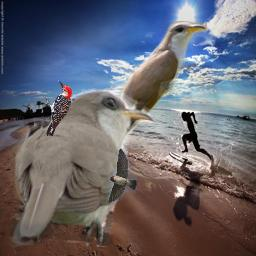Cuckoo: (9, 89, 153, 247), (87, 21, 207, 187)
Swallow: (108, 148, 137, 203)
Woodpecker: (42, 80, 72, 136)
